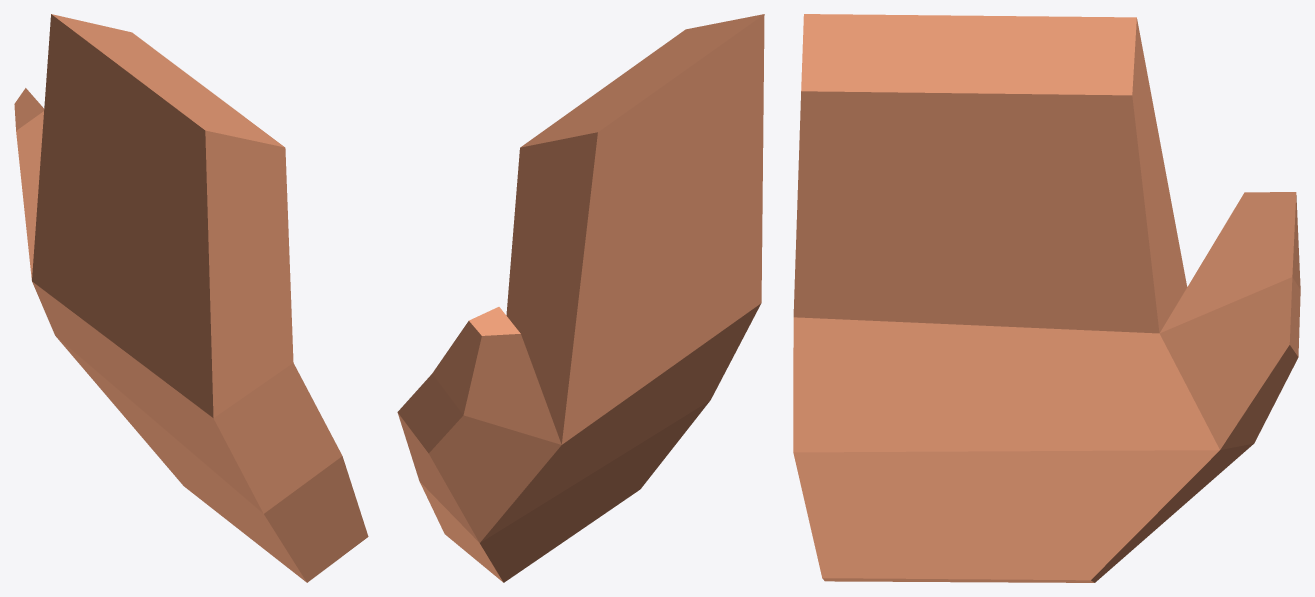
Rendered from MoverHand.fbx.
The picture shows the model from 3 angles, left to right: view 1: azimuth 30°, elevation 25°; view 2: azimuth 150°, elevation 25°; view 3: azimuth 270°, elevation 25°; orthographic projection. The views are drawn at different scales.
Parts seen in each view (by area): view 1: Cube.003; view 2: Cube.003; view 3: Cube.003.
Boxes of the visible parts, x1,y1,x2,y2 form: Cube.003: (14,14,368,582); Cube.003: (397,14,764,582); Cube.003: (793,14,1300,582).
Bounding box in the file's own units: 79.74 × 209 × 189.
